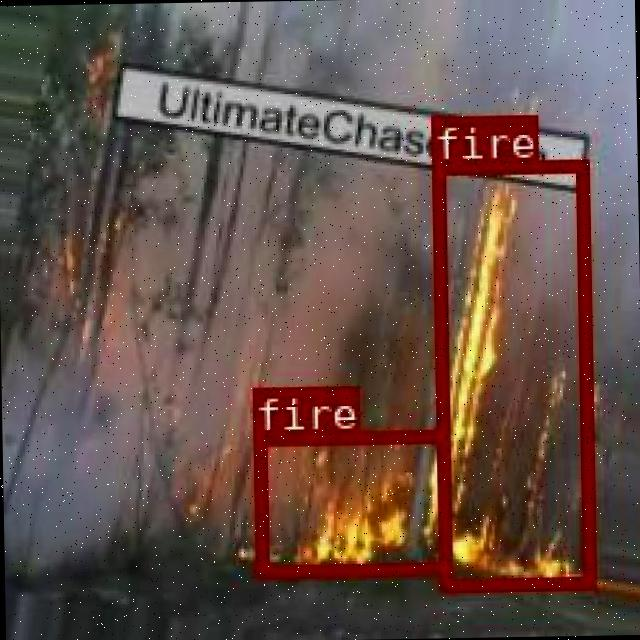fire: (429, 156, 593, 588), (253, 429, 447, 574)
